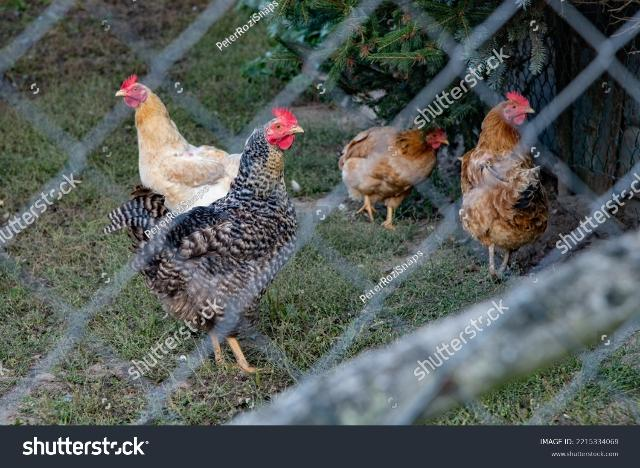Chicken: (106, 105, 305, 373), (115, 73, 242, 211), (463, 90, 549, 280), (337, 122, 449, 227)
